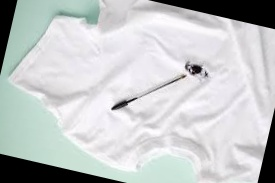ink: (187, 65, 202, 76)
